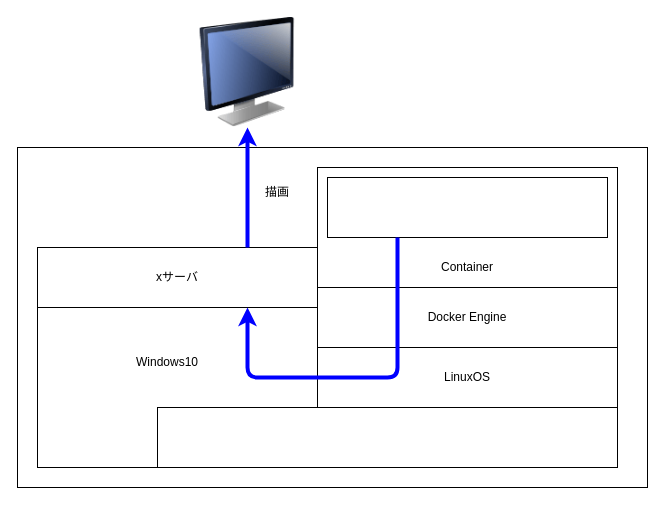
The diagram is 665 pixels wide and 505 high, and some of its shapes have lost their labels. The shapes that lost their labels are listed below. From the top down, each one's centre as x and y in pixels, then its label:
At [467,207]: "GUI app (DearPyGui window)".
At [387,437]: "Hyper-V".
